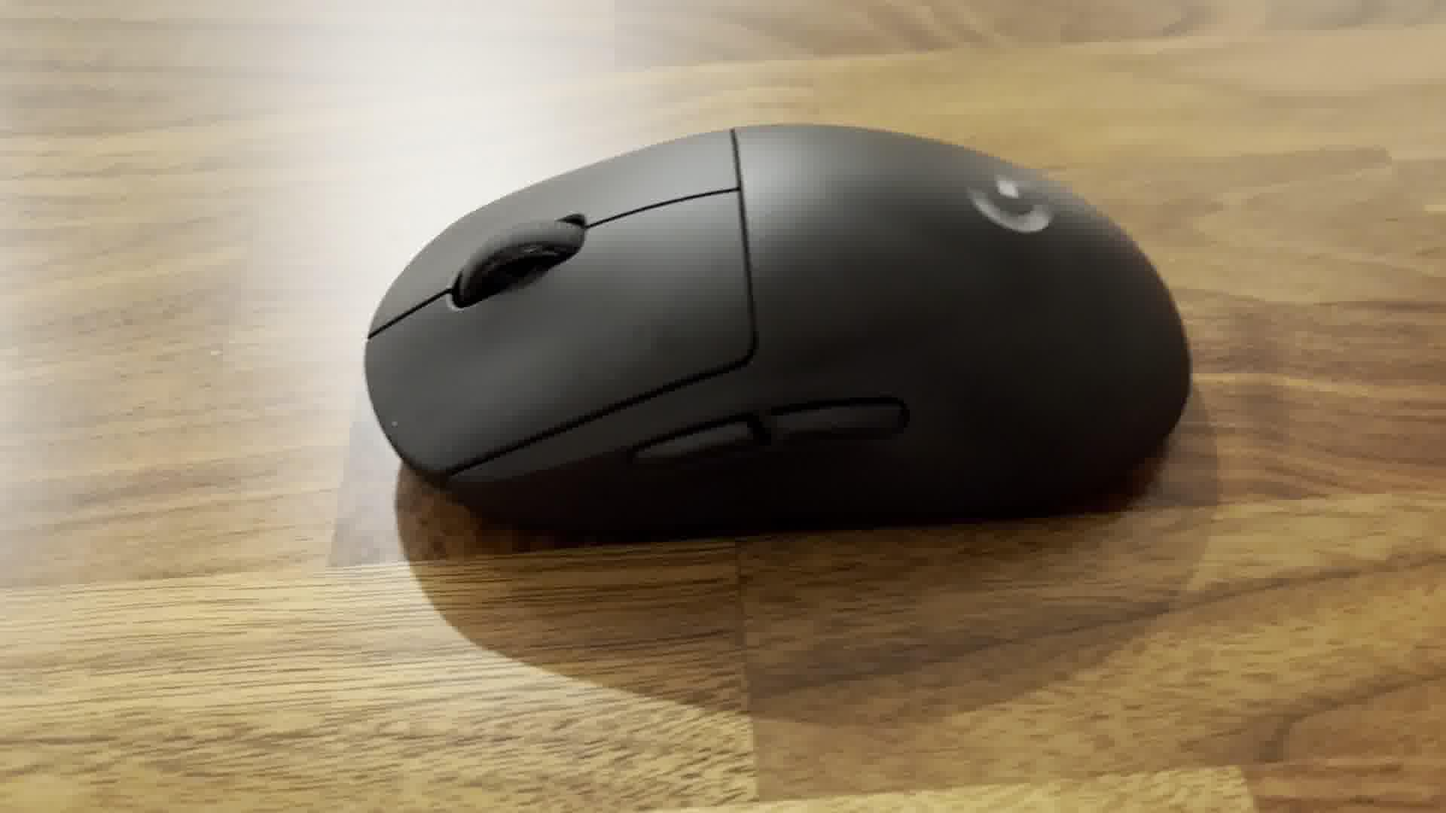mouse: (353, 113, 1197, 554)
